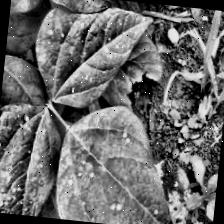Bean Rust: (54, 101, 196, 224), (28, 0, 152, 113), (0, 100, 67, 218)
